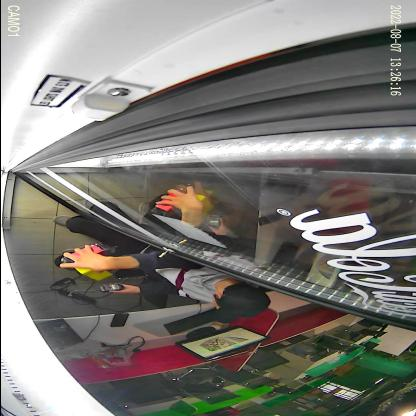red: (58, 244, 118, 269)
yellow: (73, 259, 121, 282)
